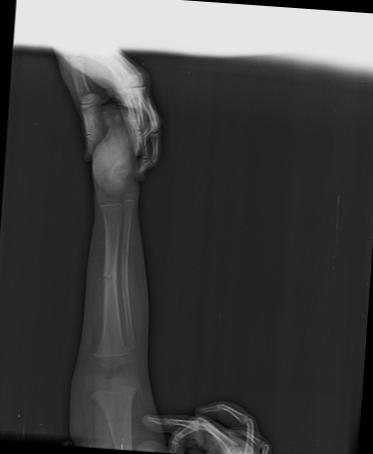fractured: (102, 265, 115, 285)
